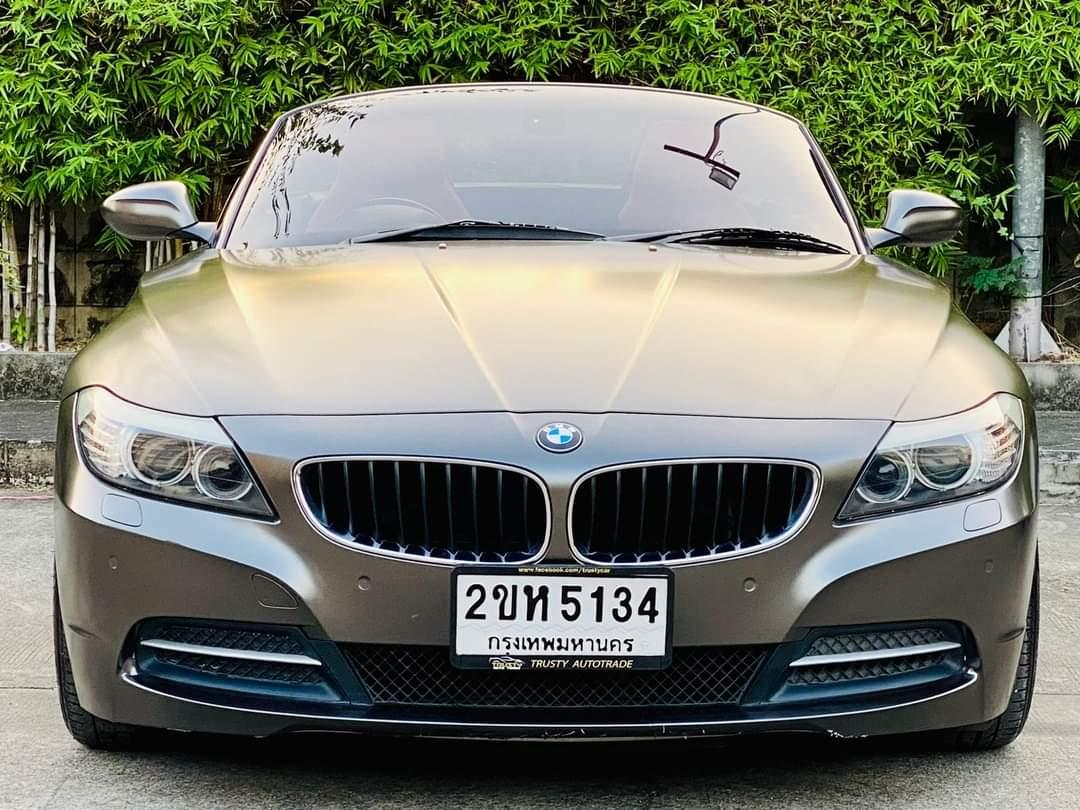license-plate: (448, 558, 675, 676)
